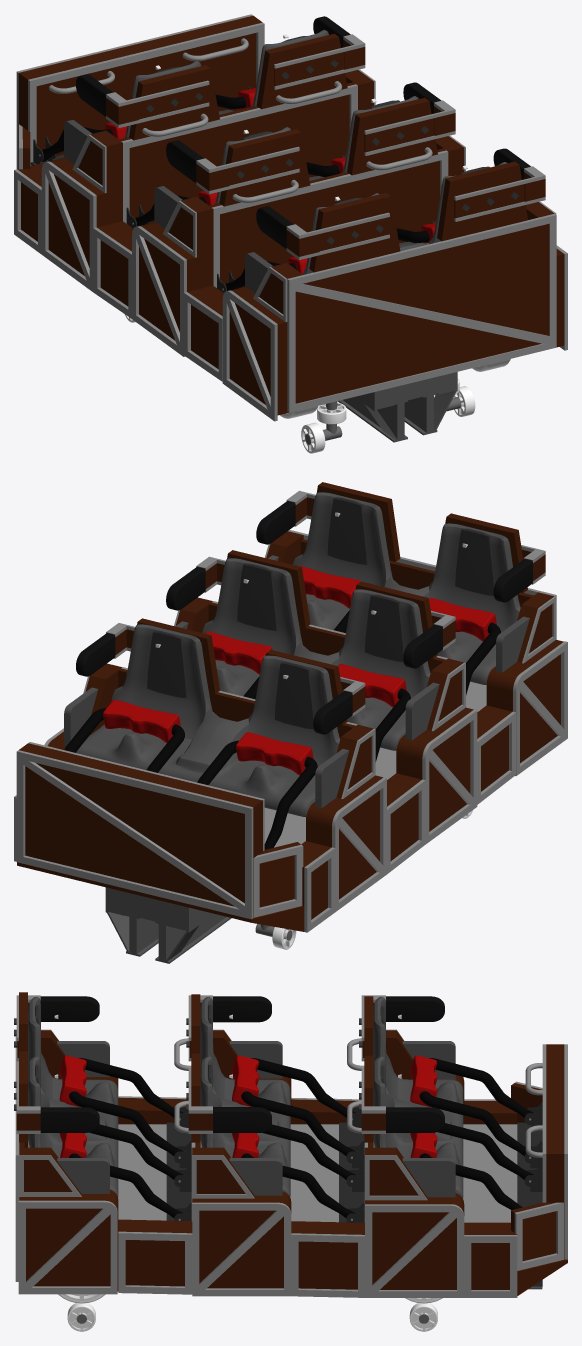
The model's file is WoodenCar.fbx.
3 renders of one model, top to bottom at view 1: azimuth 30°, elevation 25°; view 2: azimuth 150°, elevation 25°; view 3: azimuth 270°, elevation 25°, orthographic. The views are drawn at different scales.
Visible parts, largest first — view 1: Plane.057, Plane.055, Plane.063, Plane.060, Plane.062, Plane.056, Plane.050, Plane.054, Plane.037, Plane.038, Plane.012, Plane.019 (+16 smaller); view 2: Plane.055, Plane.063, Plane.022, Plane.045, Plane.044, Plane.056, Plane.060, Plane.054, Harness01.001, Plane.051, Plane.047, Plane.046 (+21 smaller); view 3: Plane.063, Plane.060, Plane.061, Plane.051, Plane.054, Harness01.001, Harness03.001, Harness02.001, Plane.059, Plane.022, Plane.044, Plane.045 (+26 smaller).
Part boxes in pixels (x1,y1,x2,y2): Plane.057: [295, 224, 549, 403]; Plane.055: [18, 15, 445, 287]; Plane.063: [18, 157, 564, 415]; Plane.060: [41, 161, 567, 421]; Plane.062: [287, 214, 556, 412]; Plane.056: [16, 14, 448, 287]; Plane.050: [309, 161, 527, 272]; Plane.054: [78, 70, 554, 314]; Plane.037: [219, 97, 437, 206]; Plane.038: [129, 33, 347, 140]; Plane.012: [286, 166, 545, 260]; Plane.019: [196, 100, 455, 194]; Plane.055: [19, 602, 445, 917]; Plane.063: [47, 639, 563, 919]; Plane.022: [76, 624, 340, 816]; Plane.045: [202, 558, 430, 750]; Plane.044: [293, 492, 520, 684]; Plane.056: [16, 601, 447, 919]; Plane.060: [44, 641, 567, 911]; Plane.054: [85, 531, 553, 798]; Harness01.001: [64, 699, 317, 849]; Plane.051: [64, 555, 529, 808]; Plane.047: [237, 563, 404, 661]; Plane.046: [147, 630, 314, 729]; Plane.063: [19, 1075, 517, 1291]; Plane.060: [18, 1077, 464, 1297]; Plane.061: [28, 1124, 517, 1222]; Plane.051: [57, 1041, 455, 1197]; Plane.054: [19, 1030, 427, 1199]; Harness01.001: [410, 1055, 534, 1209]; Harness03.001: [59, 1055, 183, 1218]; Harness02.001: [232, 1055, 356, 1218]; Plane.059: [118, 1096, 517, 1297]; Plane.022: [373, 996, 463, 1198]; Plane.044: [28, 996, 118, 1196]; Plane.045: [200, 996, 290, 1196].
Size of the model in its own units: 180 by 157 by 308.
